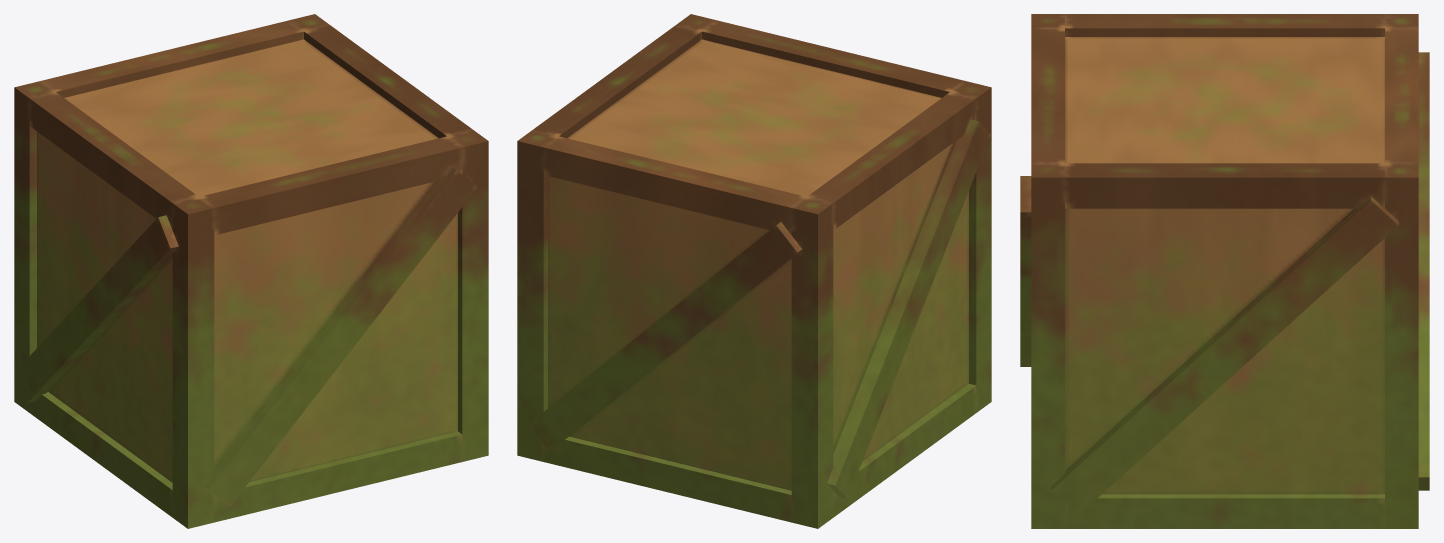
File: Kit_Props_Crate.fbx
3 views of the same model, side by side, from view 1: azimuth 30°, elevation 25°; view 2: azimuth 150°, elevation 25°; view 3: azimuth 270°, elevation 25° (orthographic). The views are drawn at different scales.
Visible parts, largest first — view 1: Kit_Props_Crate_LOD0; view 2: Kit_Props_Crate_LOD0; view 3: Kit_Props_Crate_LOD0.
Part boxes in pixels (bbox=[...]): Kit_Props_Crate_LOD0: bbox=[14, 14, 488, 528]; Kit_Props_Crate_LOD0: bbox=[517, 14, 991, 528]; Kit_Props_Crate_LOD0: bbox=[1020, 14, 1429, 528].
Size of what is drawn, in the model's own units: 0.845 by 0.8 by 0.845.
1 material, 1 textured.
